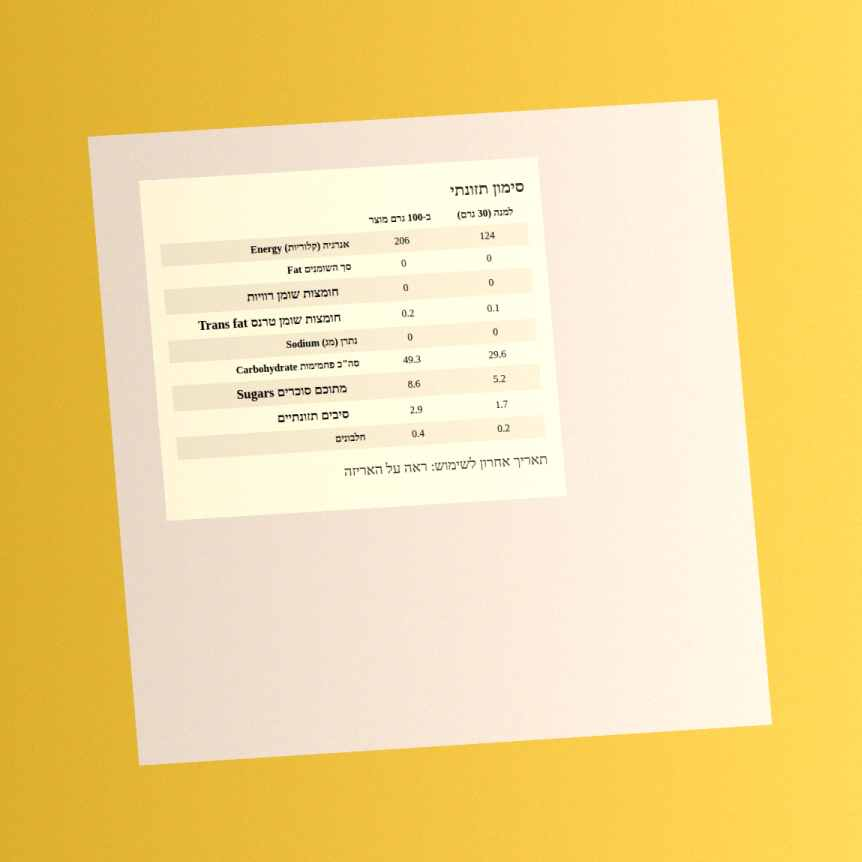carbs: (401, 352, 423, 367)
energy: (392, 233, 411, 248)
fat: (399, 256, 408, 270)
protein: (410, 426, 426, 441)
